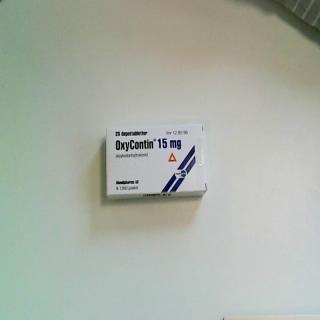oxycontin15mg: (106, 122, 210, 200)
